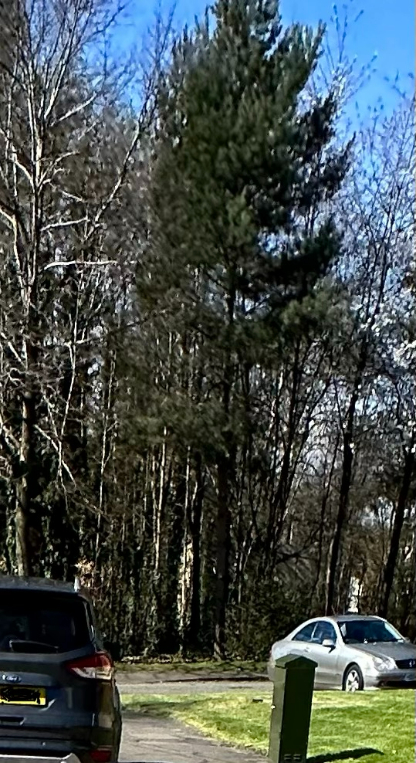car: (0, 562, 159, 763), (270, 603, 416, 703)
tree: (150, 3, 322, 577)
